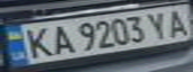0: (109, 16, 130, 47)
2: (93, 17, 115, 50)
3: (124, 12, 151, 44)
9: (72, 19, 96, 52)
A: (45, 21, 75, 56), (160, 7, 193, 38)
K: (18, 25, 57, 60)
Y: (142, 9, 175, 39)
